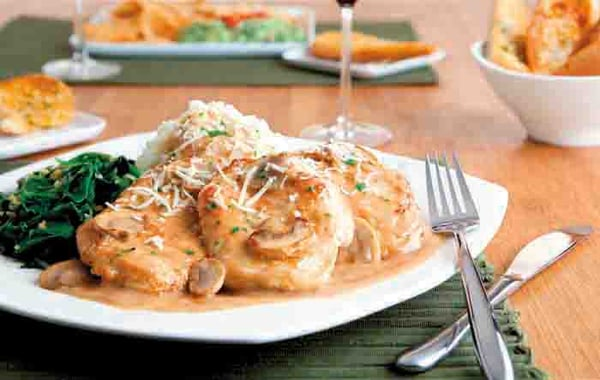curry: (0, 152, 143, 265)
sushi: (469, 1, 600, 150)
